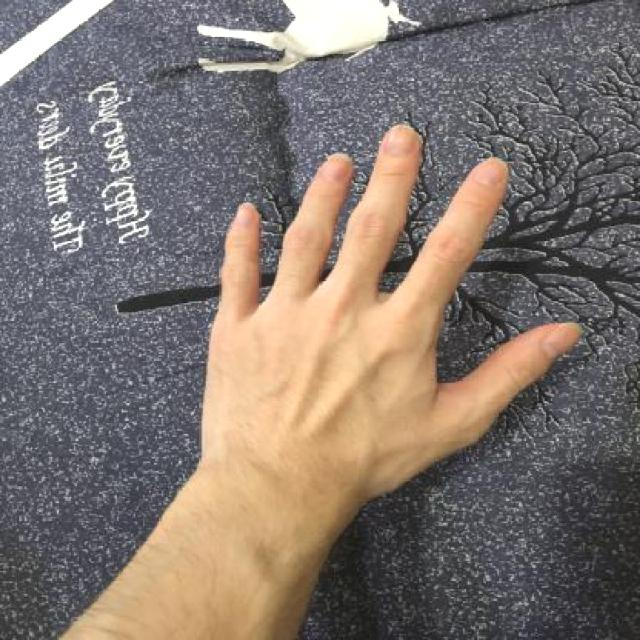no_glove: (182, 115, 593, 513)
